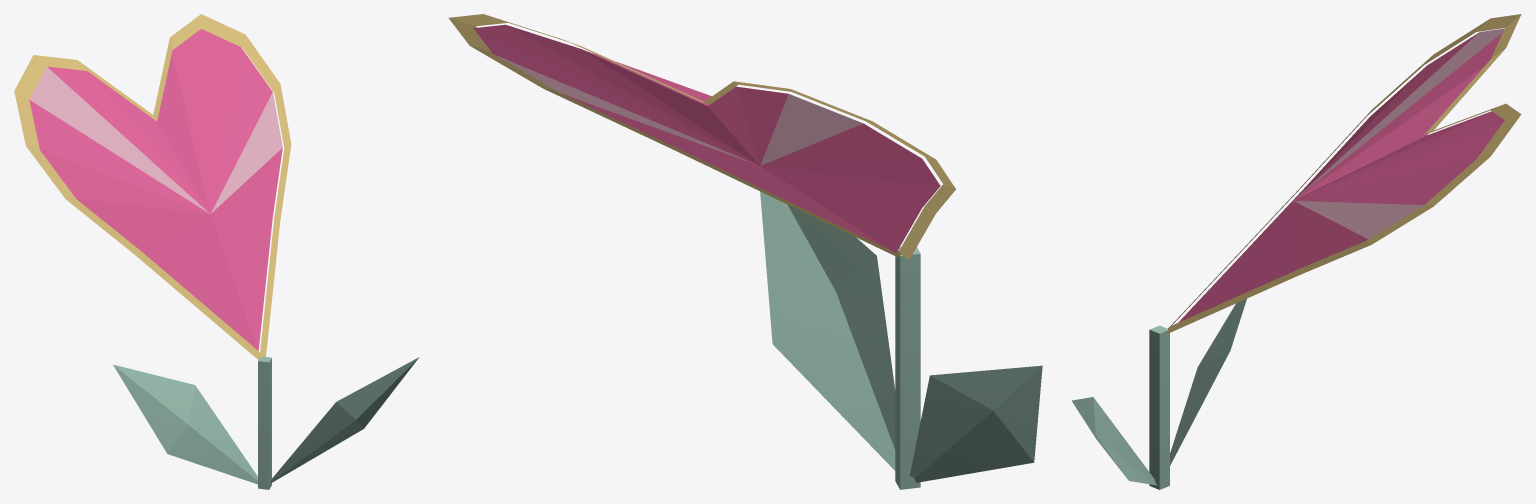
The model's file is flower-heart.glb.
3 views of the same model, side by side, from view 1: azimuth 30°, elevation 25°; view 2: azimuth 150°, elevation 25°; view 3: azimuth 270°, elevation 25° (orthographic). The views are drawn at different scales.
Visible parts, largest first — view 1: root_mesh; view 2: root_mesh; view 3: root_mesh.
Part boxes in pixels (<box>): root_mesh: <box>14,14,419,489</box>; root_mesh: <box>448,14,1042,489</box>; root_mesh: <box>1072,14,1521,489</box>.
Size of the model in its own units: 0.2709 by 0.35 by 0.3387.
